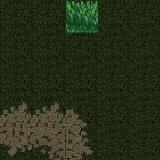Slow: (65, 1, 99, 34)
